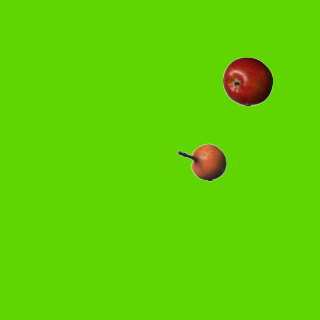Apple Braeburn: (222, 56, 272, 106)
Granadilla: (176, 137, 226, 187)
